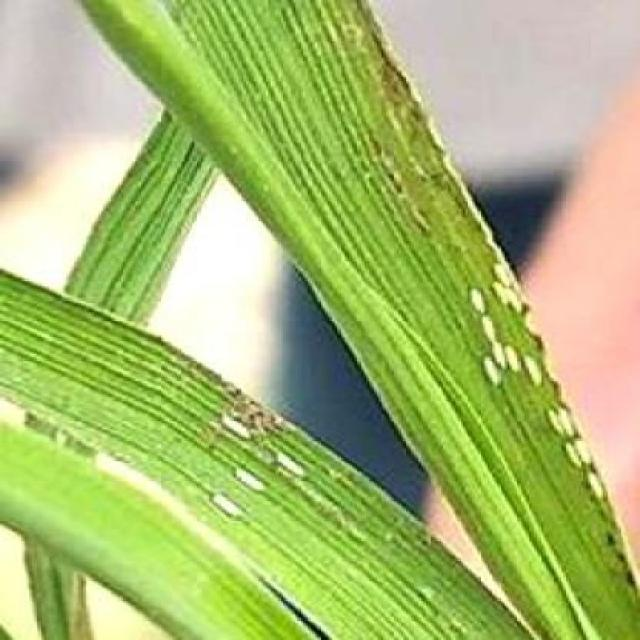whorl-maggot: (267, 442, 321, 482), (221, 397, 257, 451), (231, 460, 275, 498), (468, 348, 506, 392), (488, 284, 526, 324), (552, 438, 597, 471), (483, 254, 522, 289), (208, 488, 246, 523), (522, 351, 548, 392), (544, 409, 574, 443), (467, 315, 508, 339), (460, 281, 485, 314), (581, 477, 614, 501)
